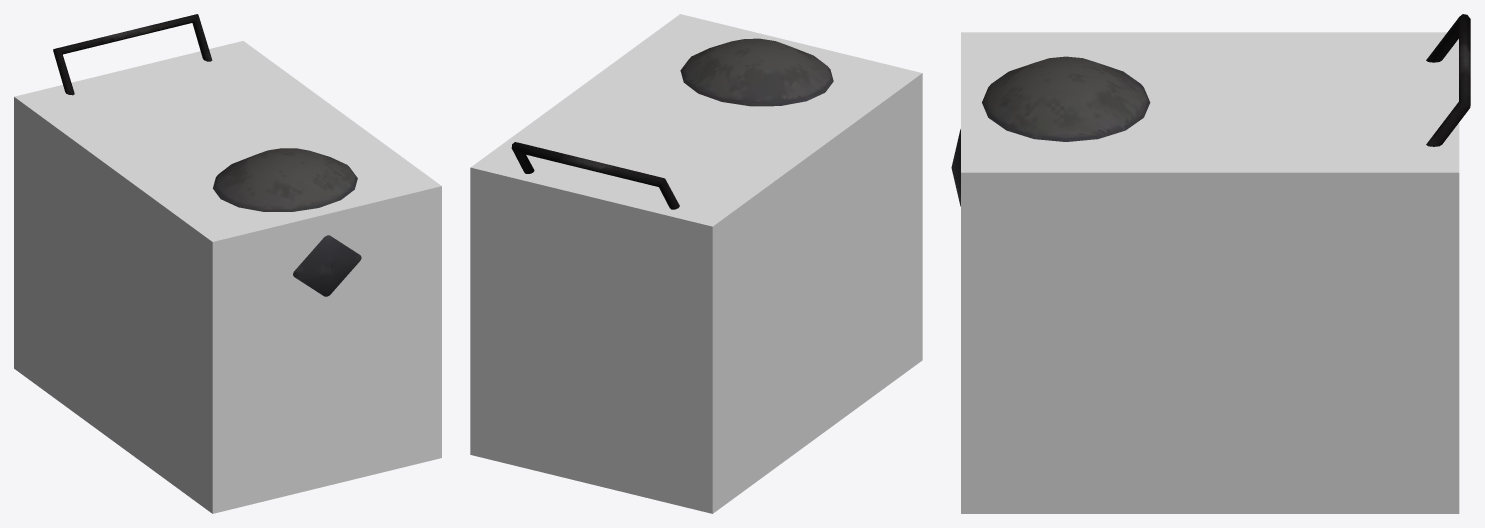
The model's file is Pram.glb.
3 renders of one model, left to right at view 1: azimuth 30°, elevation 25°; view 2: azimuth 150°, elevation 25°; view 3: azimuth 270°, elevation 25°, orthographic. The views are drawn at different scales.
Parts seen in each view (by area): view 1: Col_1__Plastic__000000, Tex__SmoothPlastic__FFFFFF; view 2: Col_1__Plastic__000000, Tex__SmoothPlastic__FFFFFF; view 3: Col_1__Plastic__000000, Tex__SmoothPlastic__FFFFFF.
Part boxes in pixels (x1,y1,x2,y2): Col_1__Plastic__000000: [14, 41, 441, 513]; Tex__SmoothPlastic__FFFFFF: [53, 14, 361, 296]; Col_1__Plastic__000000: [470, 14, 922, 513]; Tex__SmoothPlastic__FFFFFF: [511, 38, 833, 209]; Col_1__Plastic__000000: [961, 32, 1459, 513]; Tex__SmoothPlastic__FFFFFF: [951, 14, 1470, 206].
Size of the model in its own units: 0.84 by 1.08 by 1.31.
1 material, 1 textured.
